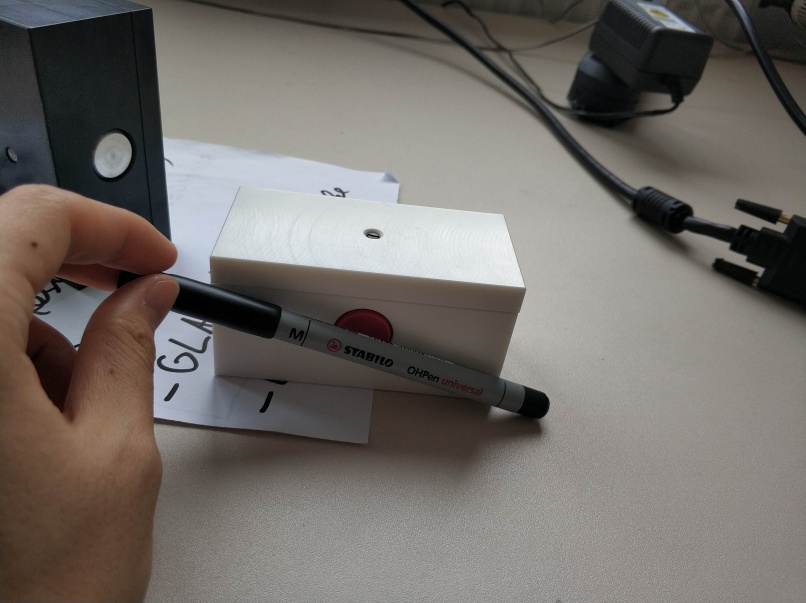black+black+silver: (1, 1, 177, 246)
white+white+red: (208, 182, 529, 390)
